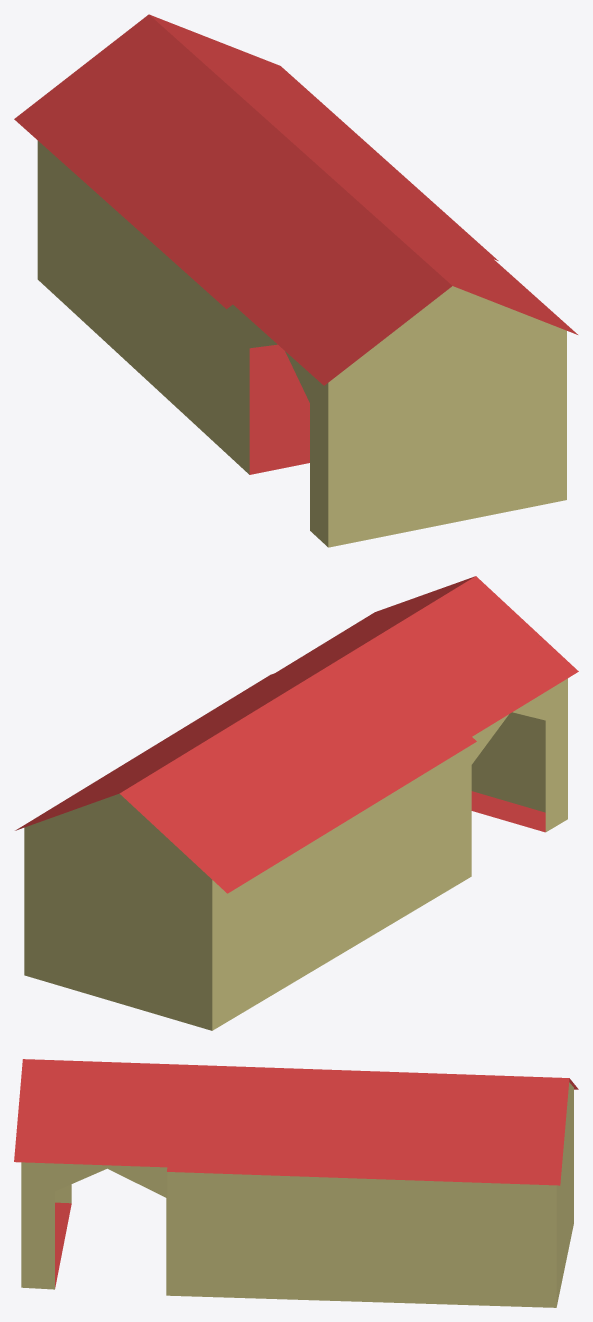
3 renders of one model, top to bottom at view 1: azimuth 30°, elevation 25°; view 2: azimuth 150°, elevation 25°; view 3: azimuth 270°, elevation 25°, orthographic. The views are drawn at different scales.
Size of the model in its own units: 19.33 by 41 by 14.89.
